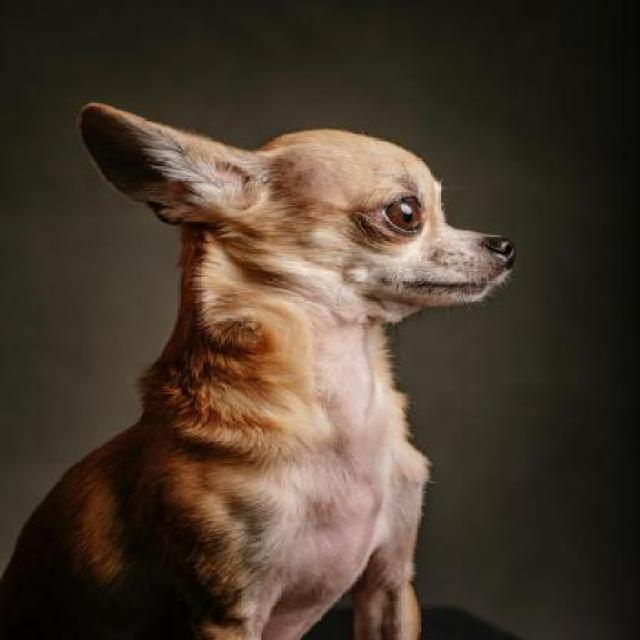animals: (60, 83, 554, 640)
